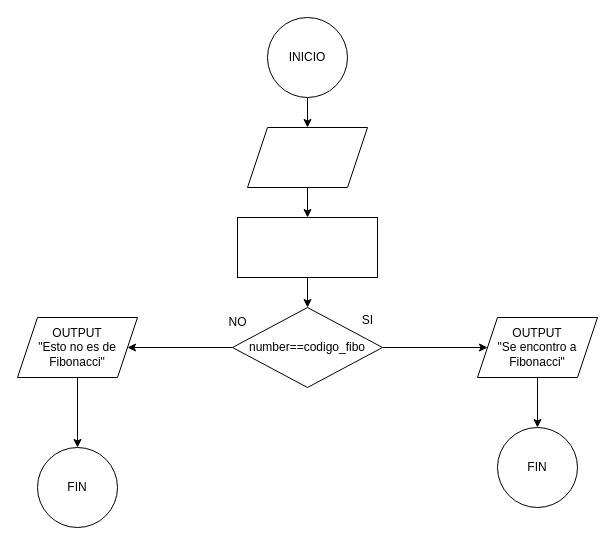
Some shapes in this 615 by 545 pixel diagram are drawn without their labels. Here are the shapes that lost their labels. From the top down, the centre of each, then its label:
At (307,157): "INPUT number".
At (307,247): "codigo_fibo=11235813".
